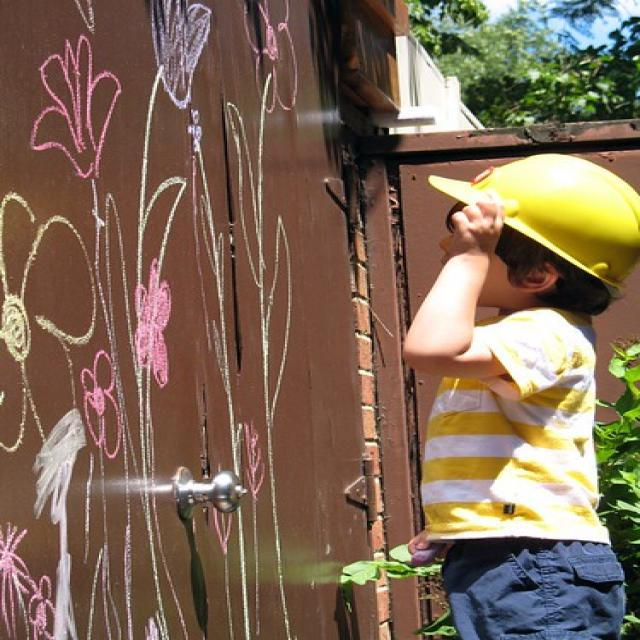safety_helmet: (423, 146, 639, 286)
